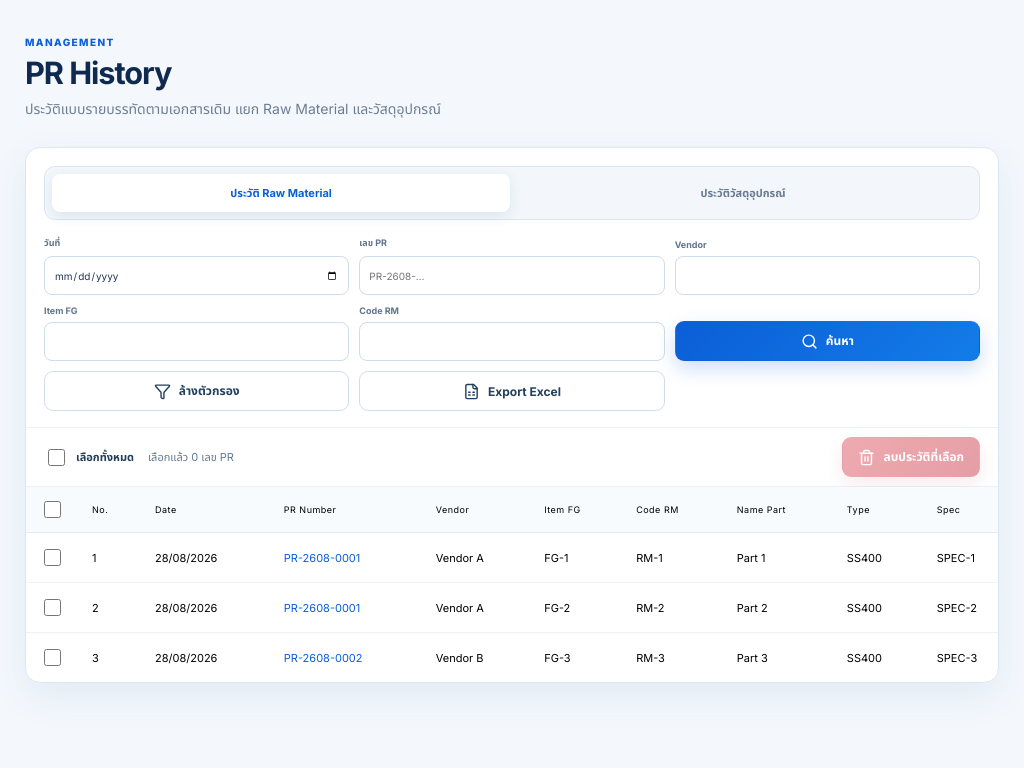
PR history deletion › selects every line of the same PR and deletes the complete PR after admin confirmation
The image size is (1024, 768).
Click the checkbox named "เลือก PR-2608-0001 รายการ": coordinates (52, 558) [44,549,61,566]
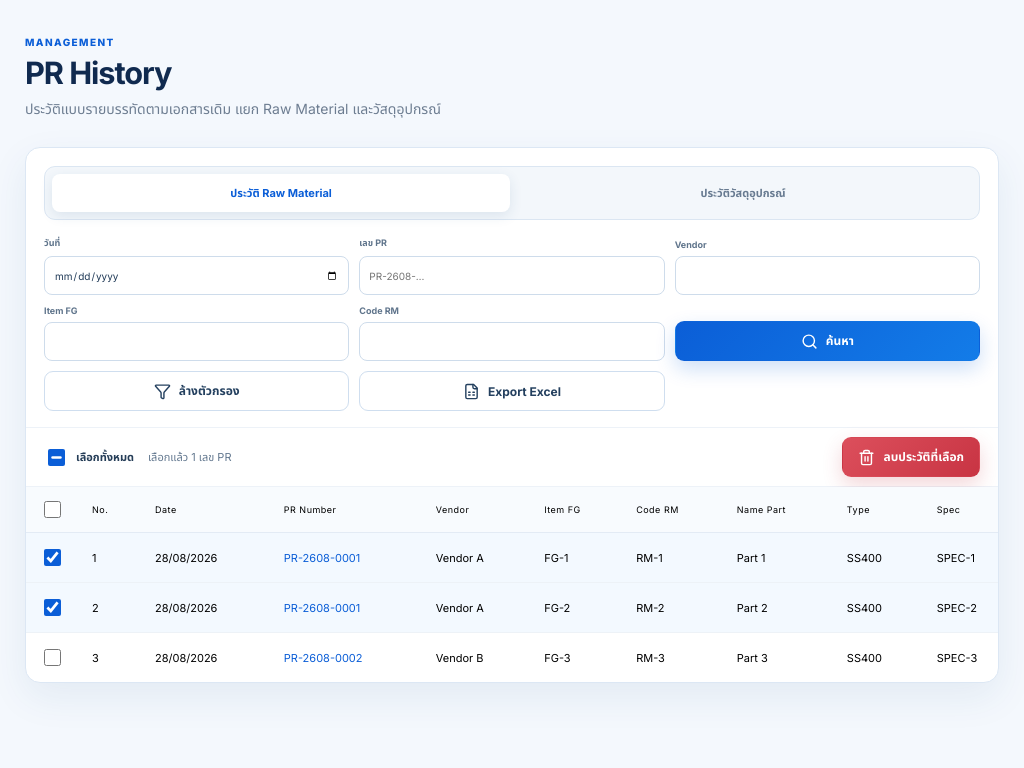
Expected: the checkbox named "เลือก PR-2608-0001 รายการ" is checked, [44,549,61,566]
Expected: the text "เลือกแล้ว 1 เลข PR" is shown, [148,449,232,466]
Click the button "ลบประวัติที่เลือก": coordinates (911, 457) [842,437,980,477]
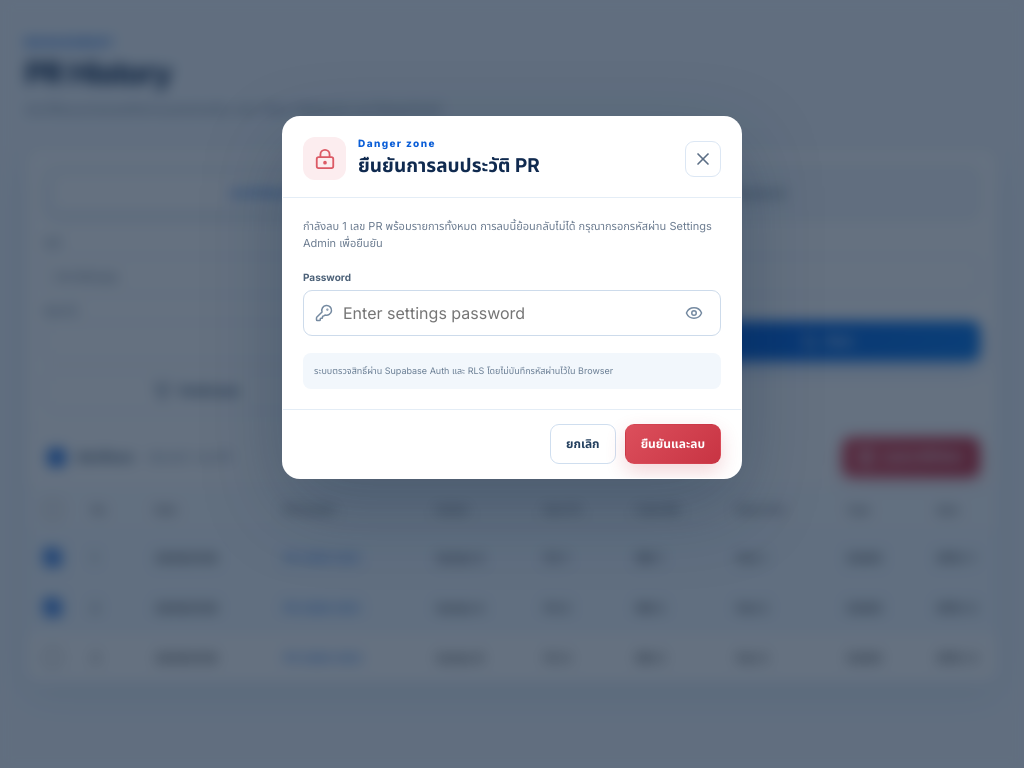
Expected: the heading "ยืนยันการลบประวัติ PR" is shown, [358,154,540,177]
In the password field labelled "Password": coordinates (506, 313) [341,292,671,334], type "settings-password"
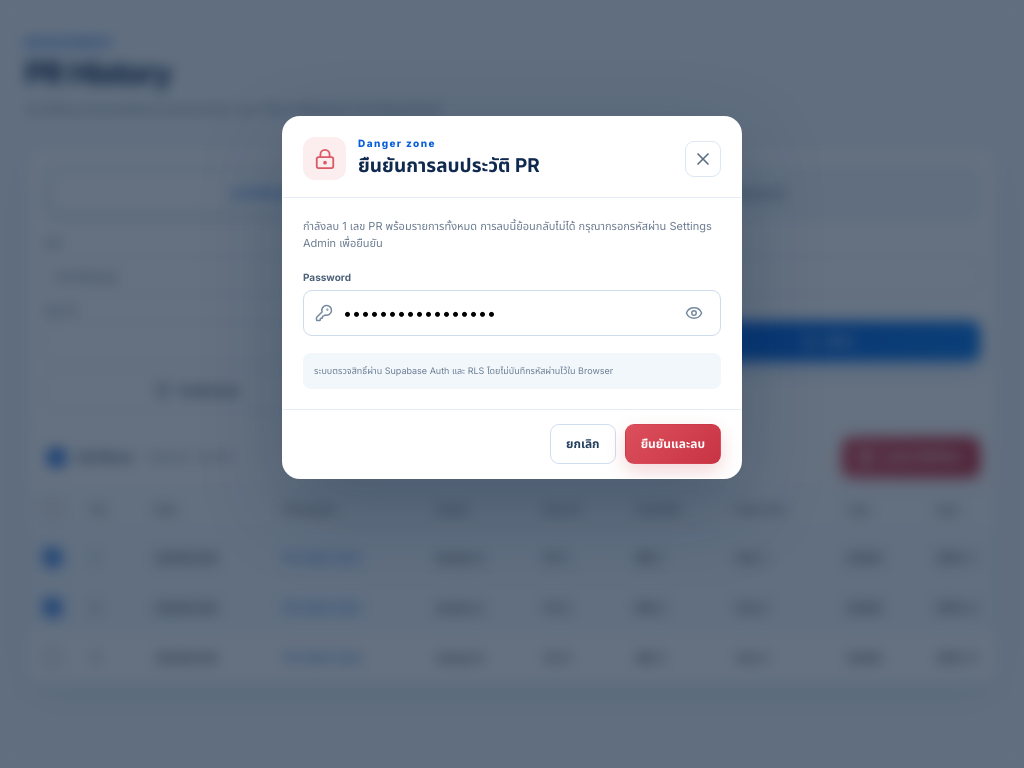
Click the button "ยืนยันและลบ": coordinates (673, 444) [625,424,721,464]
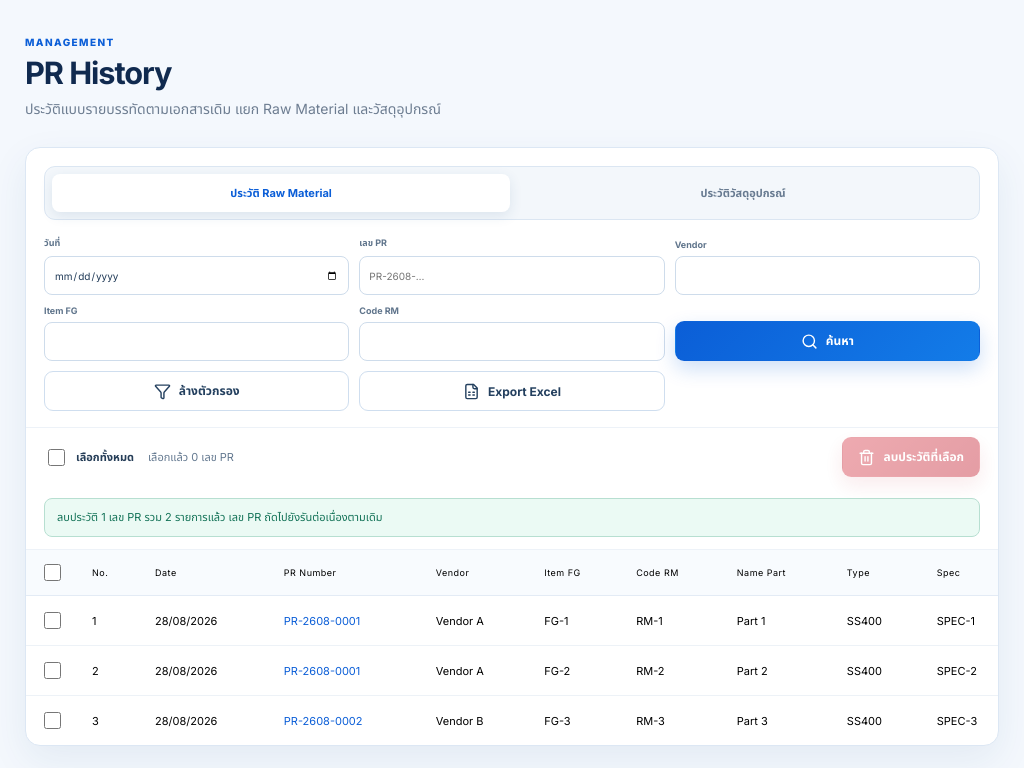
Expected: the text "ลบประวัติ 1 เลข PR รวม 2 รายการแล้ว" is shown, [57,510,382,524]
